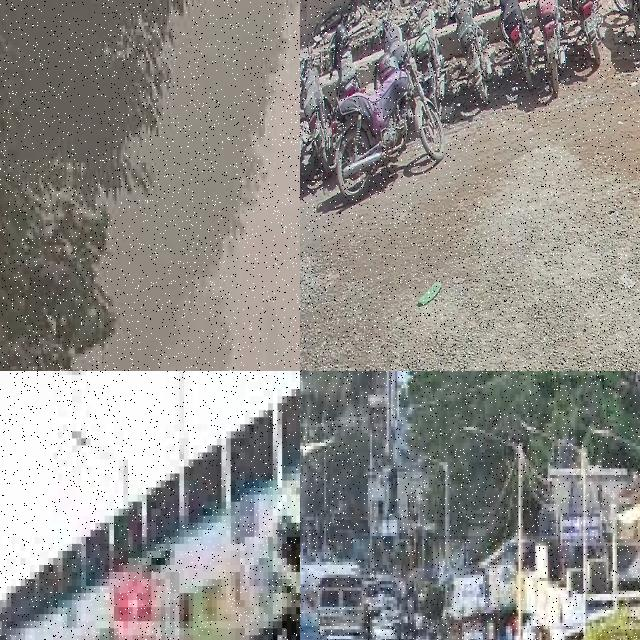bike: (330, 48, 446, 204), (300, 21, 333, 176), (448, 0, 492, 104), (405, 0, 444, 109), (493, 0, 535, 90), (328, 2, 361, 96), (558, 0, 605, 65), (533, 0, 565, 93), (378, 0, 407, 66), (610, 0, 640, 56)
